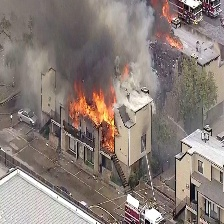fire: (69, 87, 120, 154), (152, 3, 184, 49), (120, 64, 129, 80)
smoke: (1, 1, 149, 96)
